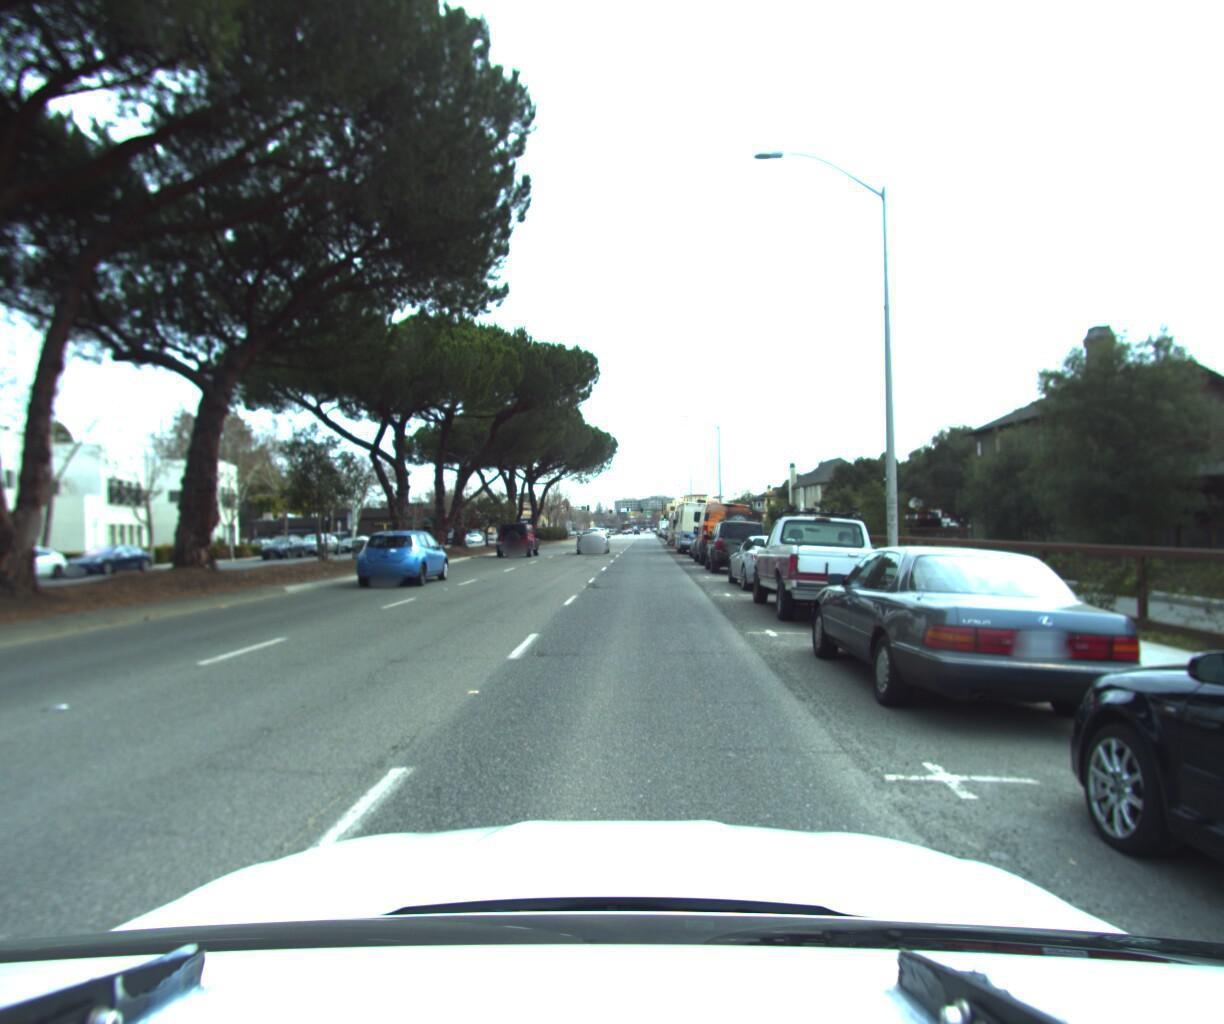car: (1021, 548, 1224, 1024), (789, 534, 1168, 758), (751, 495, 921, 635), (357, 526, 455, 590), (728, 530, 824, 595), (703, 515, 775, 575), (695, 499, 756, 567), (62, 542, 164, 580), (0, 546, 83, 592), (494, 521, 540, 558), (295, 530, 346, 558), (260, 534, 312, 561), (574, 524, 609, 552)
other_vehicle: (675, 497, 728, 555)
